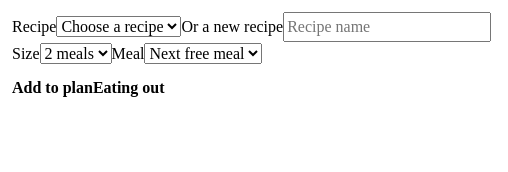
Test: adding a new recipe from the plan (REQ-180) › picks the recipe that already has that name, so one tap adds it
In the field with placeholder "Recipe name": (387, 27) [283,12,491,42], type "chilli"
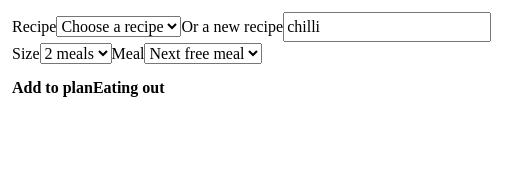
Click the button "Add to plan": (52, 88) [12,66,93,110]
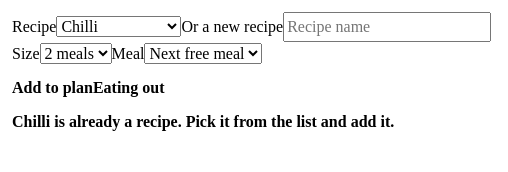
Check: the dropdown labelled "Recipe" shows "Chilli", box [56,16,181,37]
Check: the message shows "already a recipe", box [12,113,394,130]
